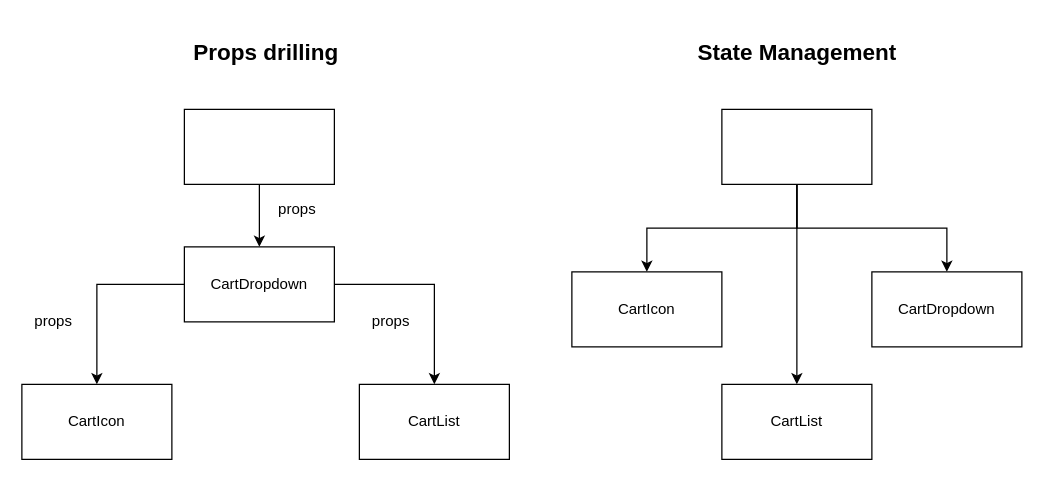
This 1044x481 diagram has some shape labels left out. Each missing label, with the centre of its shape:
Context: the point at 796,146
Menu: the point at 258,146
